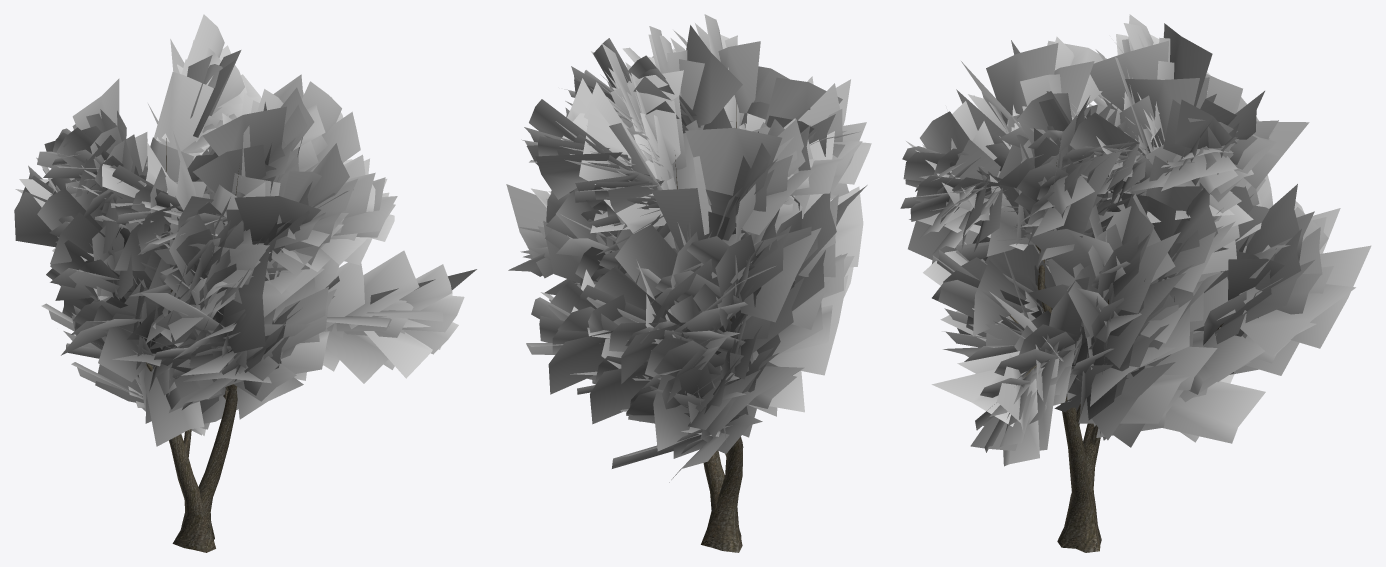
Rendered from Tree_A_A.fbx.
The picture shows the model from 3 angles, left to right: view 1: azimuth 30°, elevation 25°; view 2: azimuth 150°, elevation 25°; view 3: azimuth 270°, elevation 25°; orthographic projection. The views are drawn at different scales.
Parts seen in each view (by area): view 1: Tree_A_A_LOD0; view 2: Tree_A_A_LOD0; view 3: Tree_A_A_LOD0.
Boxes of the visible parts, <box> form: Tree_A_A_LOD0: <box>14,14,476,552</box>; Tree_A_A_LOD0: <box>506,14,871,552</box>; Tree_A_A_LOD0: <box>900,14,1371,552</box>.
Size of what is drawn, in the model's own units: 753 by 866 by 739.
